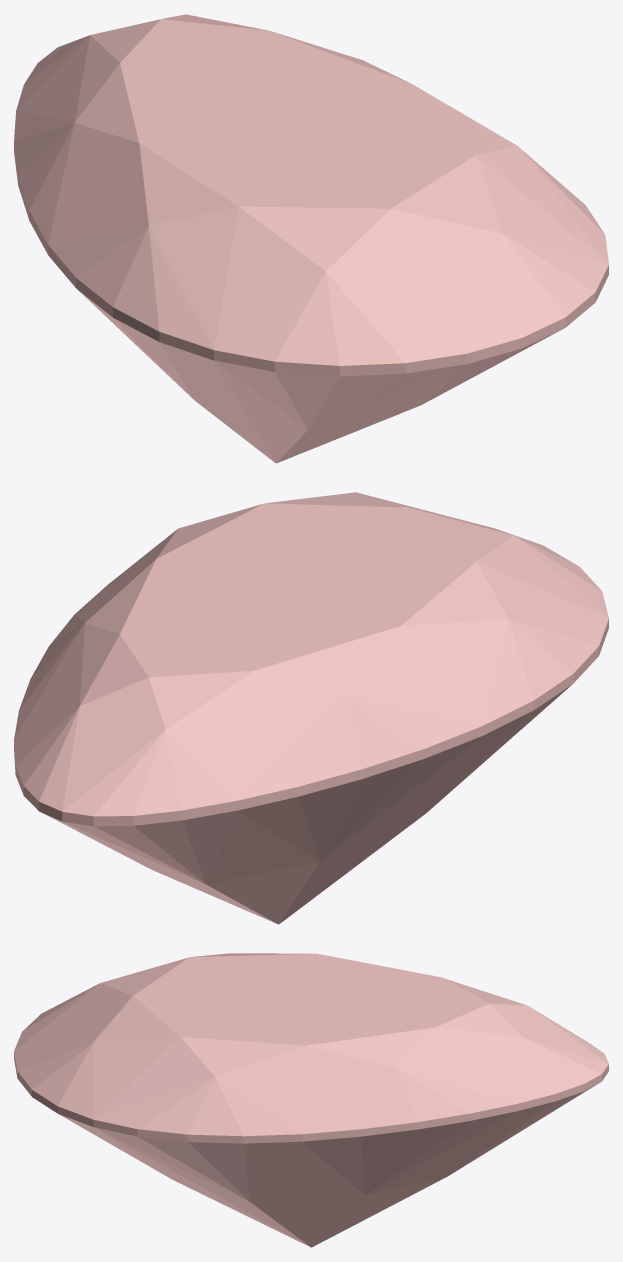
File: stone-morganite.glb
The picture shows the model from 3 angles, top to bottom: view 1: azimuth 30°, elevation 25°; view 2: azimuth 150°, elevation 25°; view 3: azimuth 270°, elevation 25°; orthographic projection. The views are drawn at different scales.
Parts seen in each view (by area): view 1: Gemstone Morganite; view 2: Gemstone Morganite; view 3: Gemstone Morganite.
Part boxes in pixels (x1,y1,x2,y2): Gemstone Morganite: [14, 14, 608, 463]; Gemstone Morganite: [14, 492, 608, 924]; Gemstone Morganite: [14, 953, 608, 1247].
Size of the model in its own units: 1.63 by 1.18 by 2.56.
